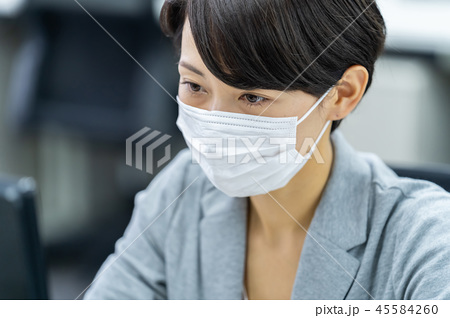mask: (179, 101, 314, 212)
